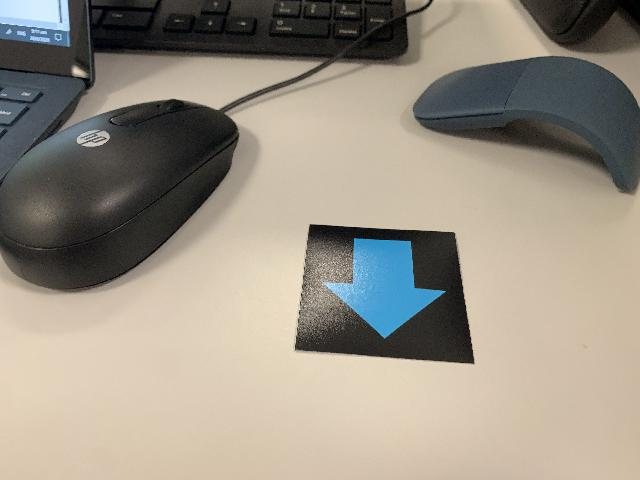down: (295, 223, 476, 364)
